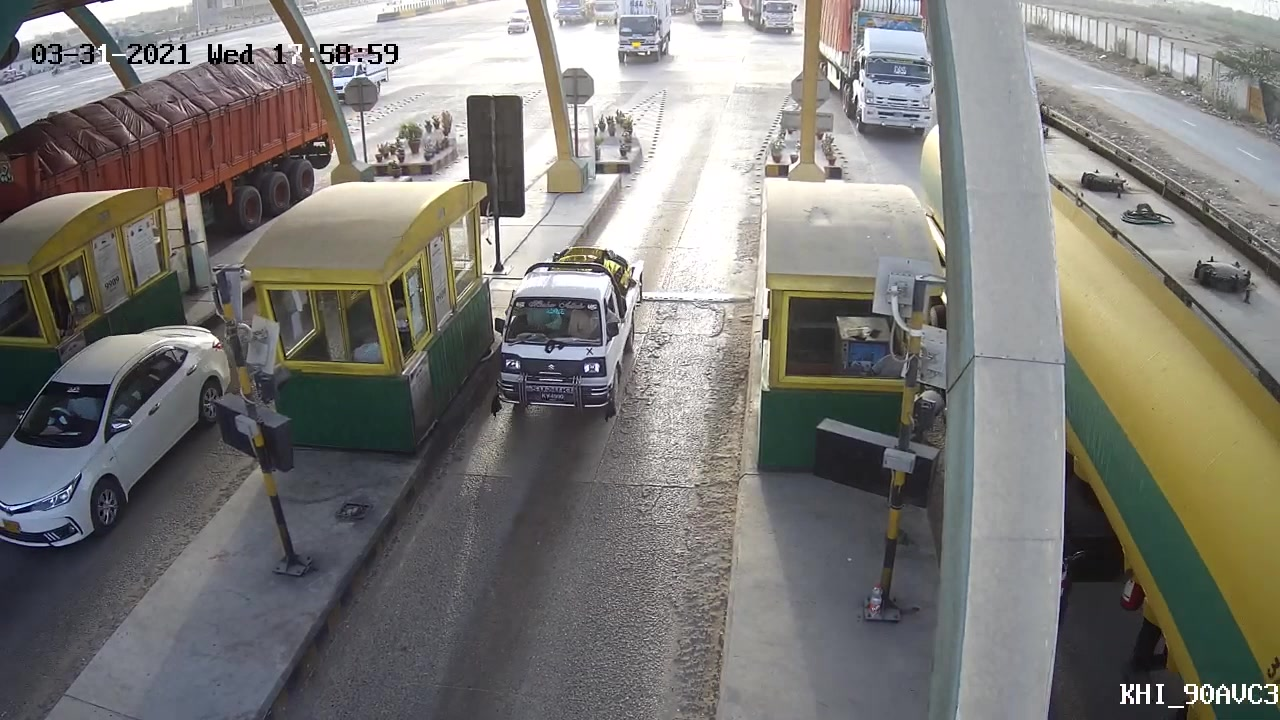F1: (474, 245, 652, 426)
